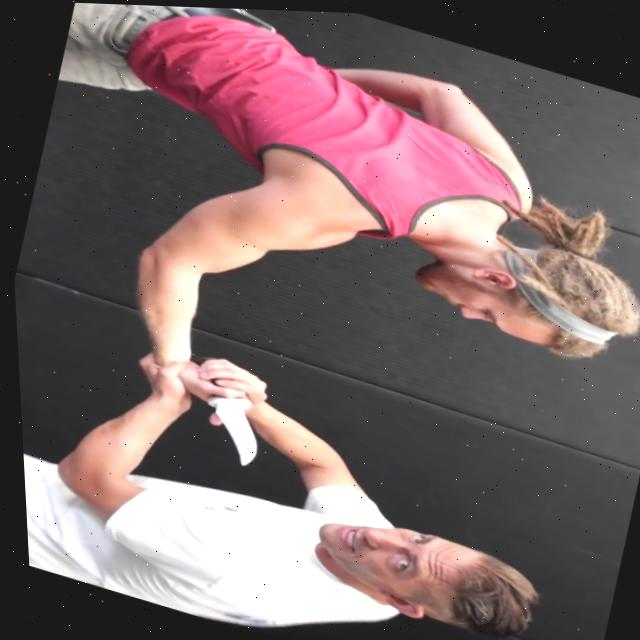knife: (185, 382, 269, 469)
